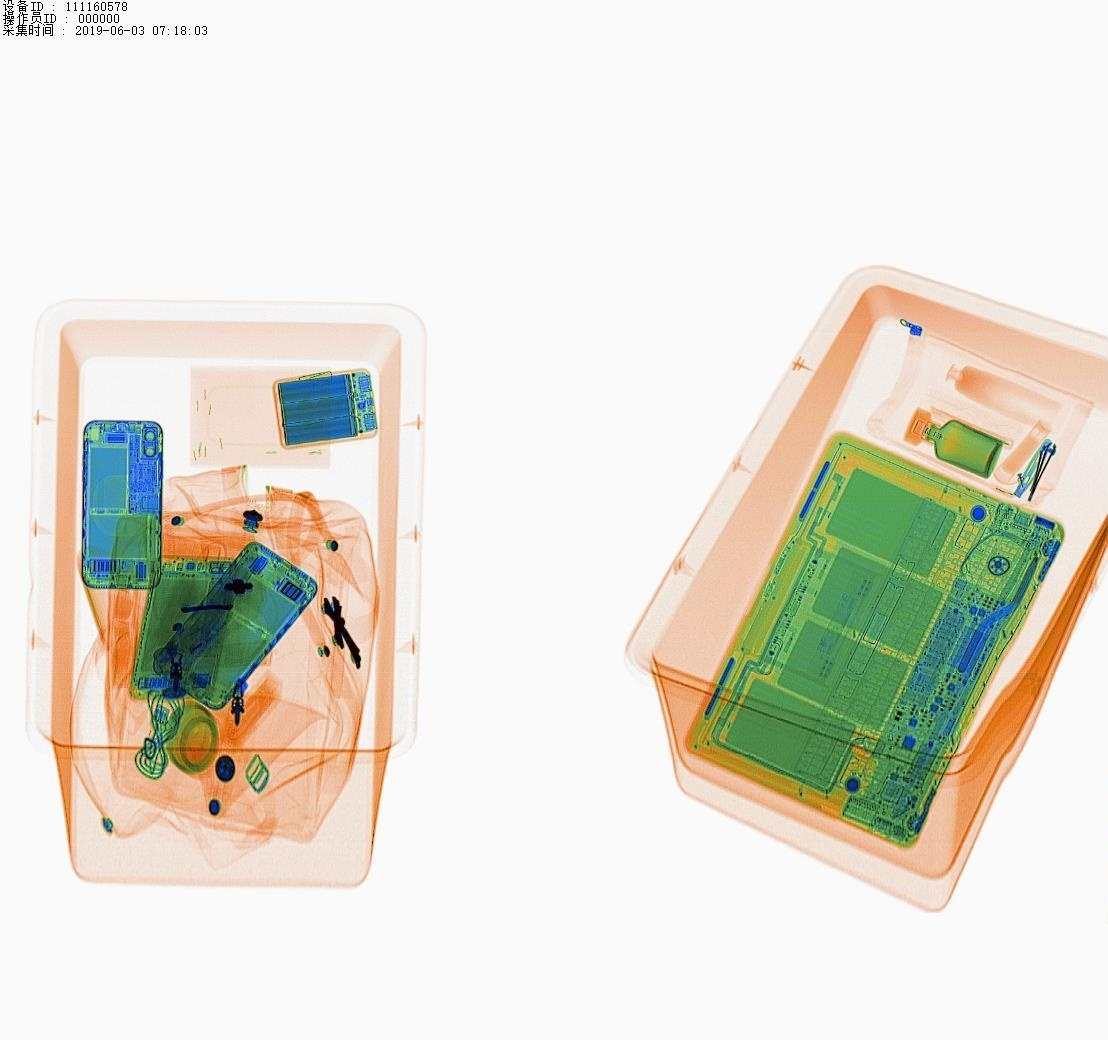NonmetallicFire: (161, 608, 261, 670)
